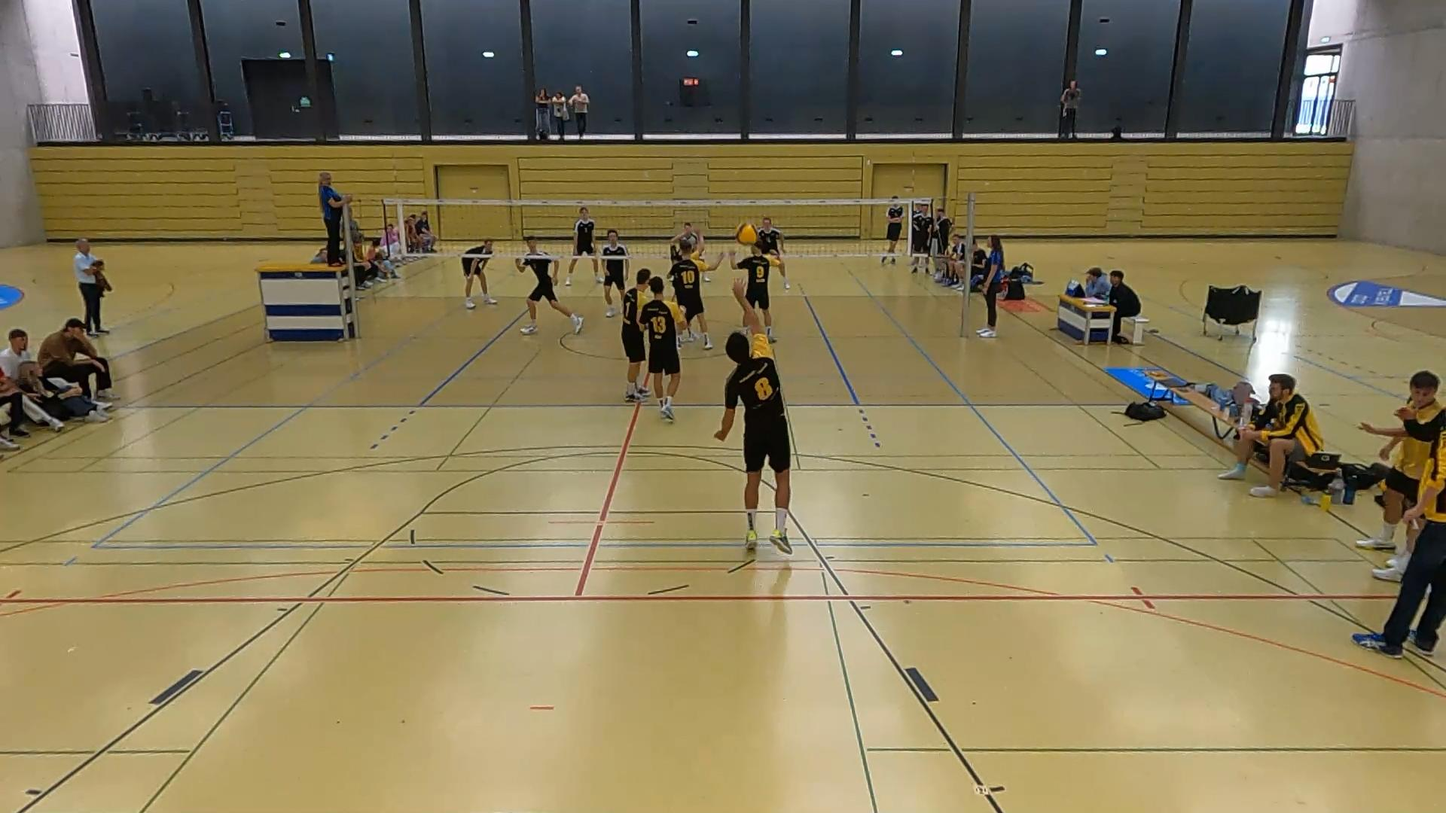Player: (515, 236, 583, 334), (638, 277, 684, 421), (732, 242, 779, 340), (668, 254, 712, 348), (621, 269, 651, 401), (565, 207, 602, 285), (461, 239, 497, 309), (755, 217, 789, 289), (600, 229, 627, 317), (670, 222, 704, 260)
Serve: (705, 280, 803, 566)
ball: (733, 220, 759, 250)
